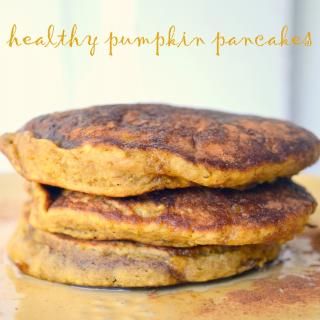Pancake: (4, 177, 318, 287), (0, 101, 318, 198)
